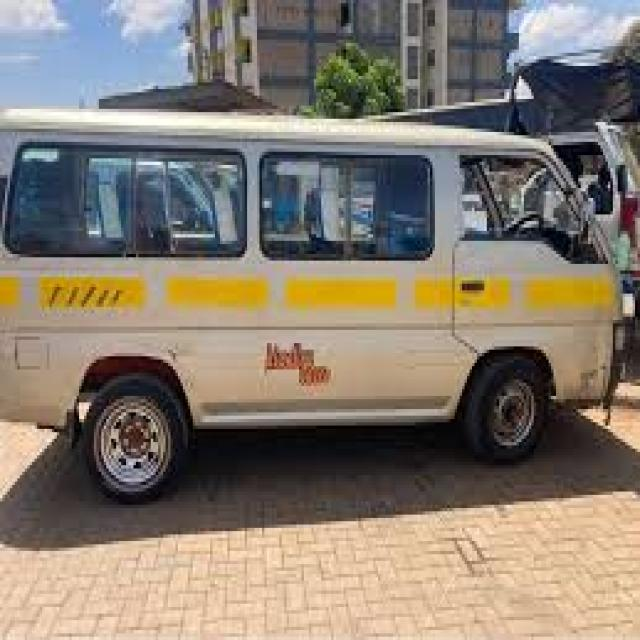matatu: (0, 70, 638, 522)
